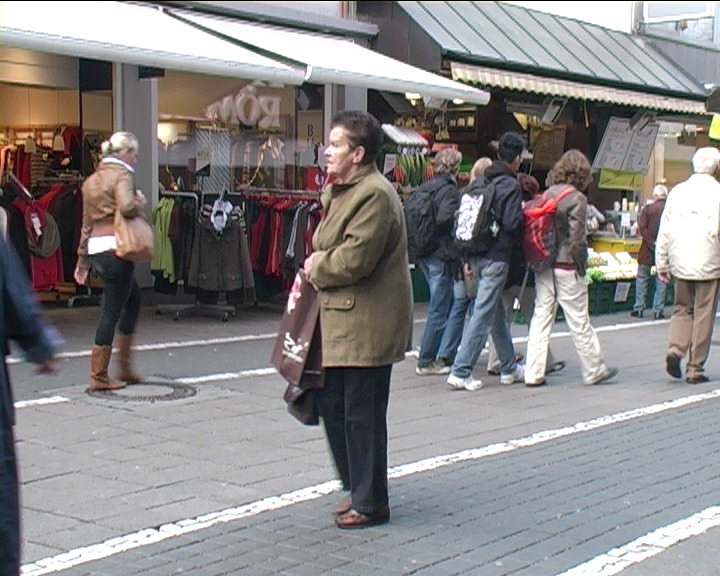undeflect: (313, 114, 402, 214)
